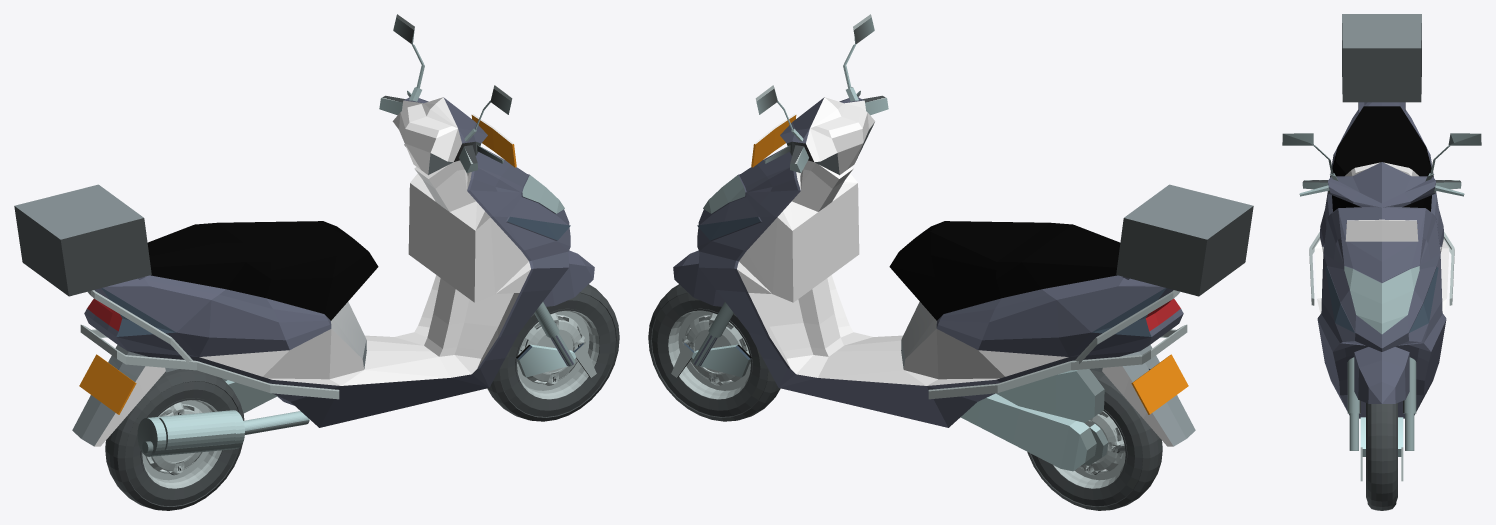
The model's file is HN-Dio_stock_ForkF.fbx.
3 views of the same model, side by side, from view 1: azimuth 30°, elevation 25°; view 2: azimuth 150°, elevation 25°; view 3: azimuth 270°, elevation 25° (orthographic). The views are drawn at different scales.
Visible parts, largest first — view 1: Body, WheelR, ForkF, WheelF, ForkR; view 2: Body, ForkF, WheelF, ForkR, WheelR; view 3: Body, ForkF, WheelF.
Part boxes in pixels (x1=…): Body: x1=14, y1=114, x2=570, y2=446; WheelR: x1=105, y1=369, x2=244, y2=510; ForkF: x1=379, y1=14, x2=596, y2=377; WheelF: x1=487, y1=284, x2=619, y2=421; ForkR: x1=137, y1=378, x2=309, y2=456; Body: x1=697, y1=114, x2=1253, y2=446; ForkF: x1=671, y1=14, x2=888, y2=377; WheelF: x1=648, y1=284, x2=780, y2=421; ForkR: x1=960, y1=369, x2=1108, y2=471; WheelR: x1=1027, y1=369, x2=1162, y2=510; Body: x1=1309, y1=14, x2=1454, y2=418; ForkF: x1=1282, y1=133, x2=1481, y2=481; WheelF: x1=1366, y1=403, x2=1397, y2=510.
Size of the model in its own units: 61.99 by 179 by 114.
